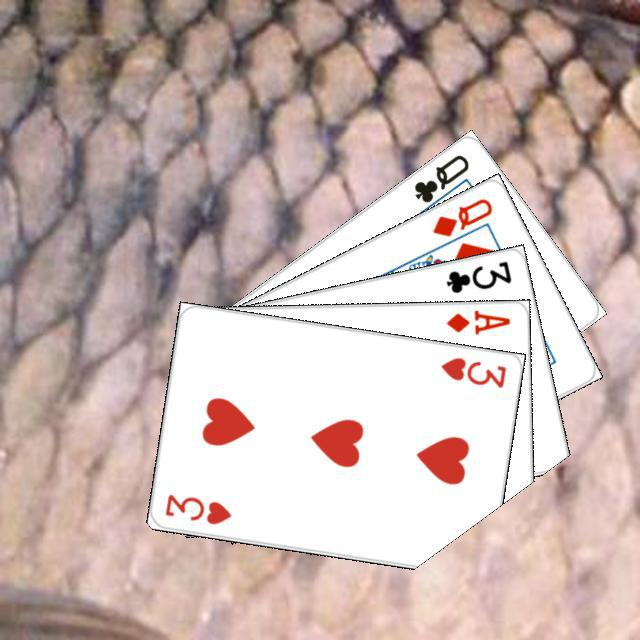3c: (441, 256, 513, 295)
3h: (436, 352, 508, 390), (160, 489, 233, 526)
Ad: (441, 305, 512, 336)
Qc: (408, 149, 472, 216)
Qd: (427, 193, 495, 239)
